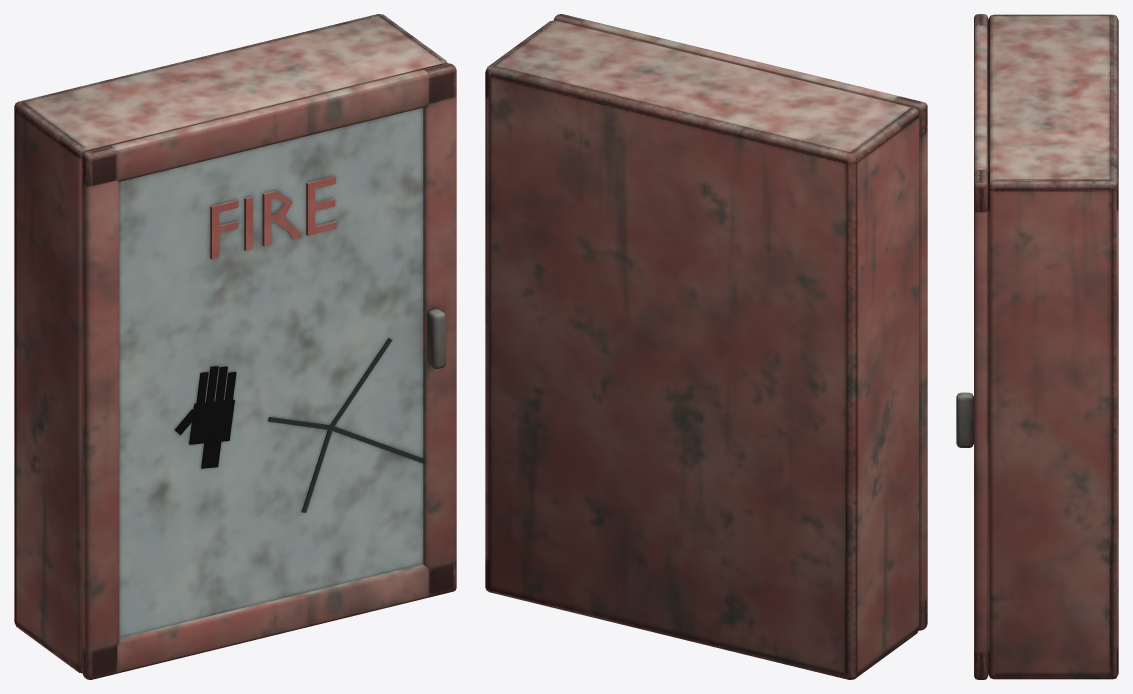
Rendered from fire_cabinet.fbx.
3 renders of one model, left to right at view 1: azimuth 30°, elevation 25°; view 2: azimuth 150°, elevation 25°; view 3: azimuth 270°, elevation 25°, orthographic. The views are drawn at different scales.
Visible parts, largest first — view 1: Door, Body; view 2: Body, Door; view 3: Body, Door.
Boxes of the visible parts, x1,y1,x2,y2 form: Door: (82, 63, 456, 679); Body: (14, 14, 447, 673); Body: (485, 20, 919, 679); Door: (554, 14, 927, 630); Body: (988, 14, 1118, 679); Door: (956, 14, 988, 679).
Bounding box in the file's own units: 2.8 × 3.8 × 1.12.
Materials: 1 (1 with a texture image).
